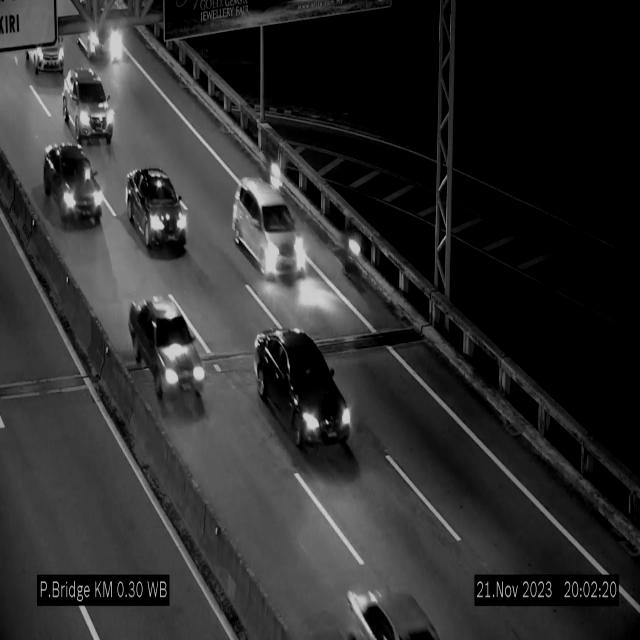Car: (251, 328, 353, 457), (332, 562, 463, 640), (127, 296, 209, 410), (233, 176, 301, 277), (126, 167, 187, 254), (44, 143, 102, 227), (63, 67, 113, 147), (74, 12, 126, 62), (24, 22, 68, 79)
Motorcycle: (346, 216, 366, 284), (262, 136, 283, 196)
